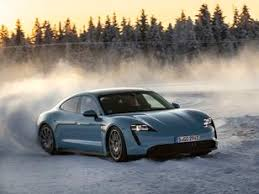car: (31, 87, 229, 167)
